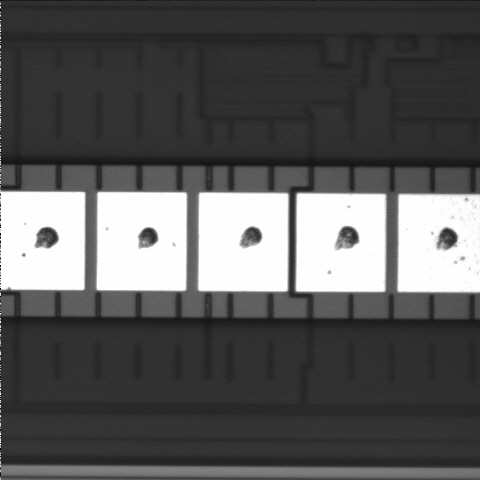pad: (97, 192, 187, 291), (296, 193, 386, 292), (198, 193, 288, 291)
